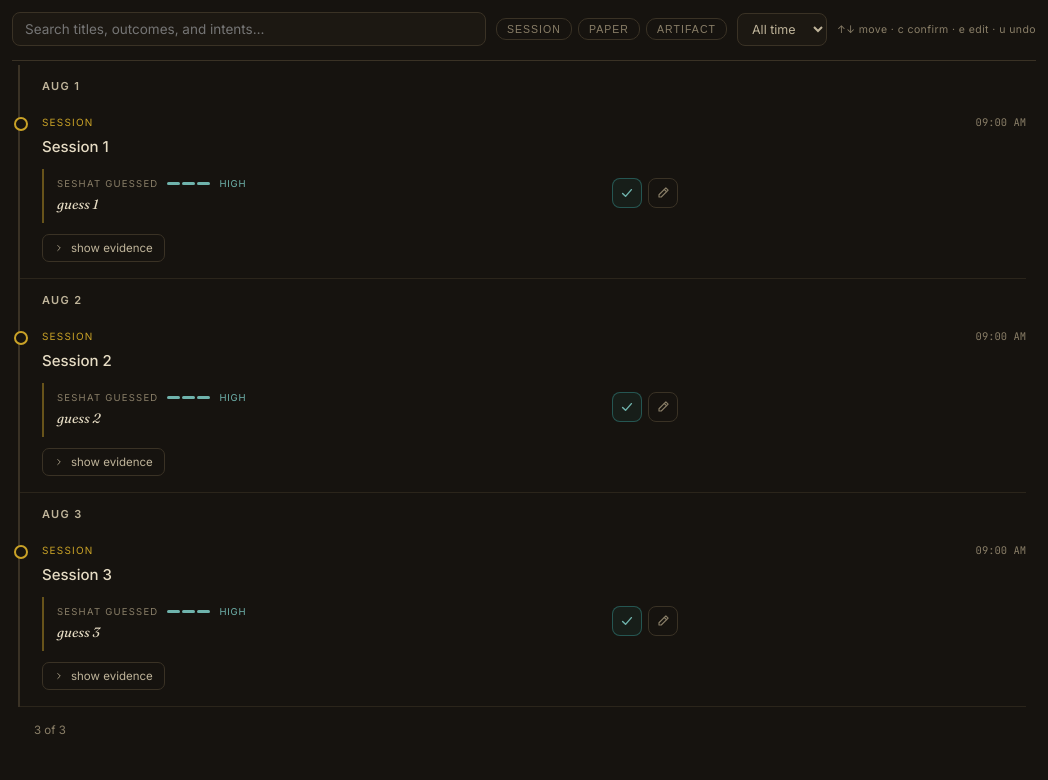
Test: review controls › surfaces a failed review instead of silently doing nothing
Expected: the text "Session 1" is shown, [42,137,109,156]
Click the button named "confirm" in the row of "guess 1" at {"x": 627, "y": 193}, box [612,178,642,208]
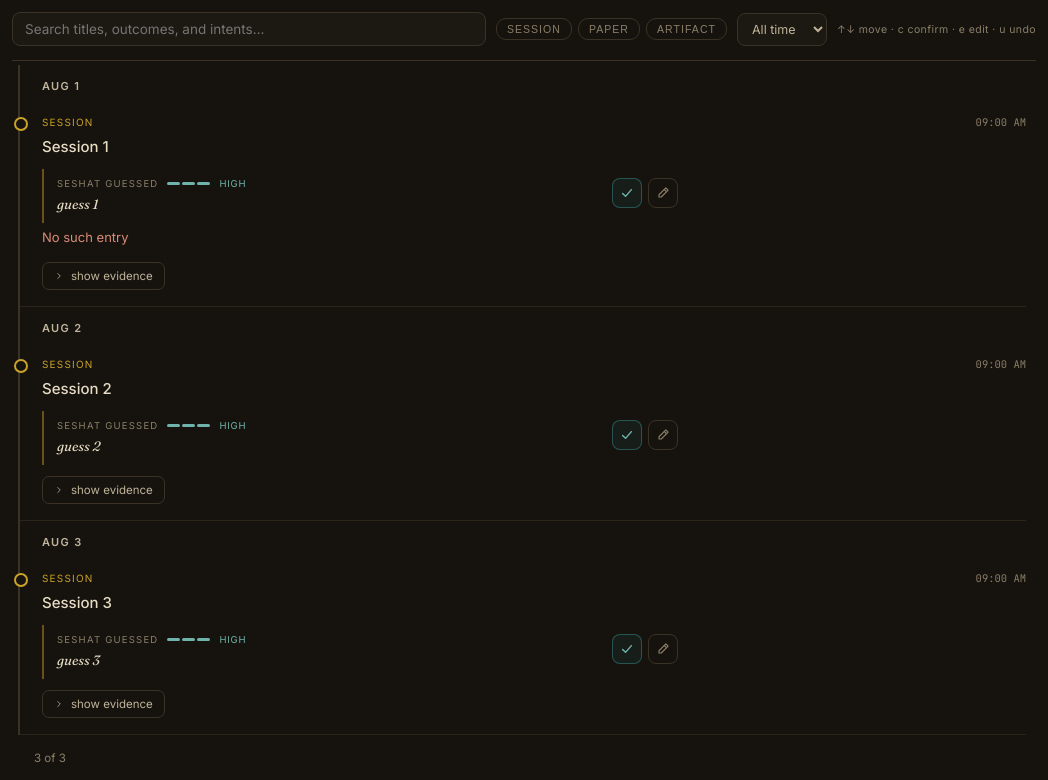
Expected: the text "No such entry" is shown, [42,229,128,245]
